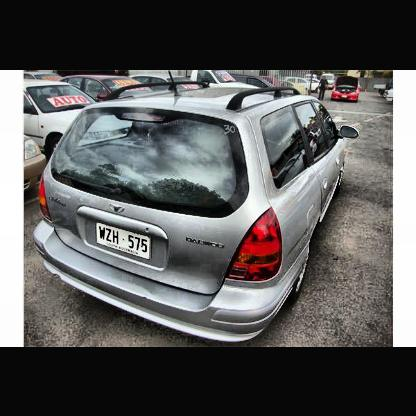Daewoo Nubira Wagon 2002: (35, 71, 362, 347)
